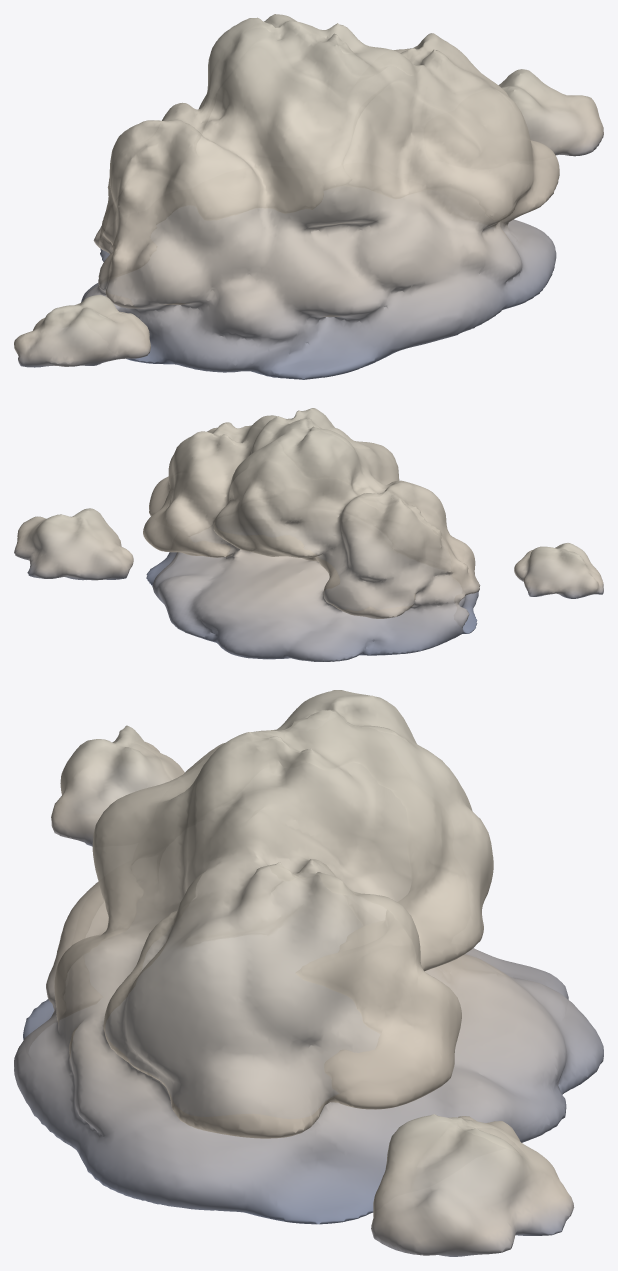
The model's file is nube-cumulo-DV5RXO31.glb.
The picture shows the model from 3 angles, top to bottom: view 1: azimuth 30°, elevation 25°; view 2: azimuth 150°, elevation 25°; view 3: azimuth 270°, elevation 25°; orthographic projection. The views are drawn at different scales.
Visible parts, largest first — view 1: Nube_Cumulo_Principal, Nube_Satelite_Oeste, Nube_Satelite_Este; view 2: Nube_Cumulo_Principal, Nube_Satelite_Este, Nube_Satelite_Oeste; view 3: Nube_Cumulo_Principal, Nube_Satelite_Este, Nube_Satelite_Oeste.
Part boxes in pixels (bbox=[...]): Nube_Cumulo_Principal: bbox=[81, 14, 559, 379]; Nube_Satelite_Oeste: bbox=[14, 294, 150, 367]; Nube_Satelite_Este: bbox=[498, 69, 603, 156]; Nube_Cumulo_Principal: bbox=[143, 408, 480, 661]; Nube_Satelite_Este: bbox=[14, 508, 133, 580]; Nube_Satelite_Oeste: bbox=[514, 543, 603, 598]; Nube_Cumulo_Principal: bbox=[14, 690, 603, 1224]; Nube_Satelite_Este: bbox=[371, 1114, 574, 1256]; Nube_Satelite_Oeste: bbox=[51, 725, 184, 846].
Size of the model in its own units: 17.52 by 6.59 by 9.21.
